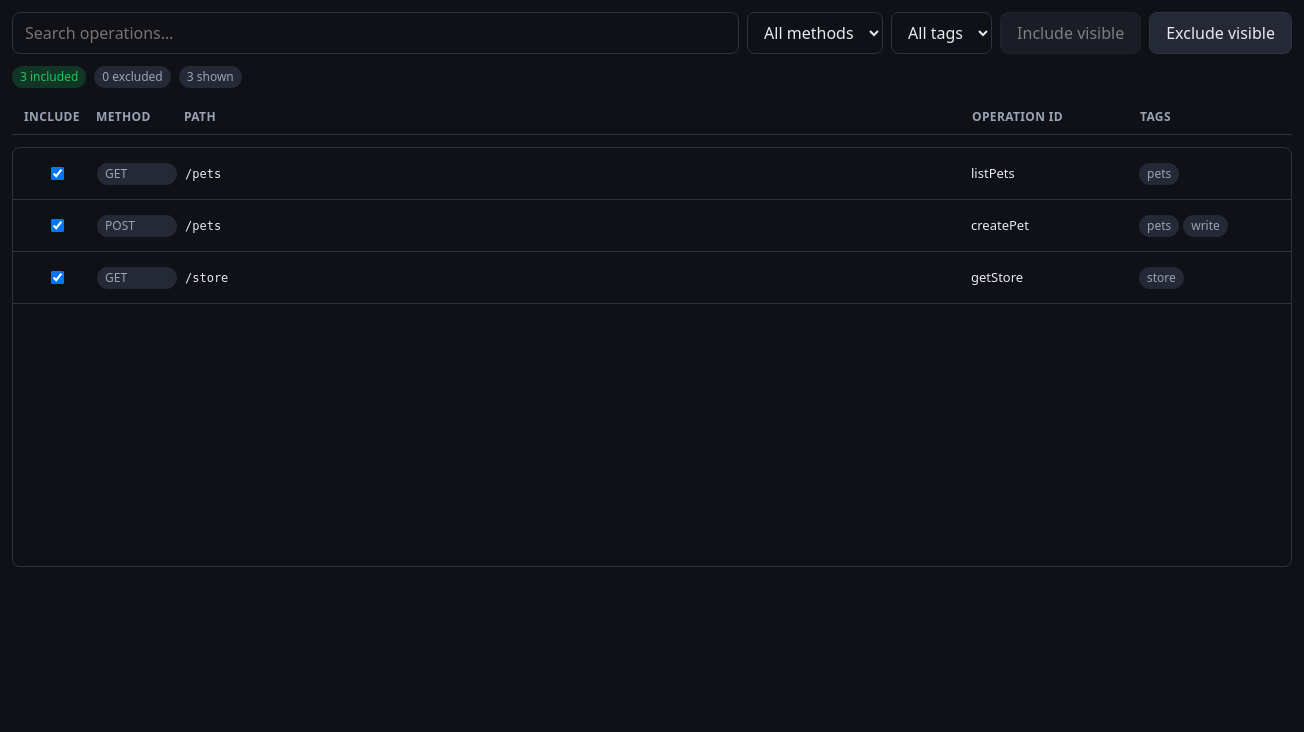
Test: OperationsTable › shows empty state when filters match nothing
This screenshot has width=1304, height=732.
Type "zzznomatch" into the field labelled "Search operations…" at (376, 33), box [12,12,739,54]
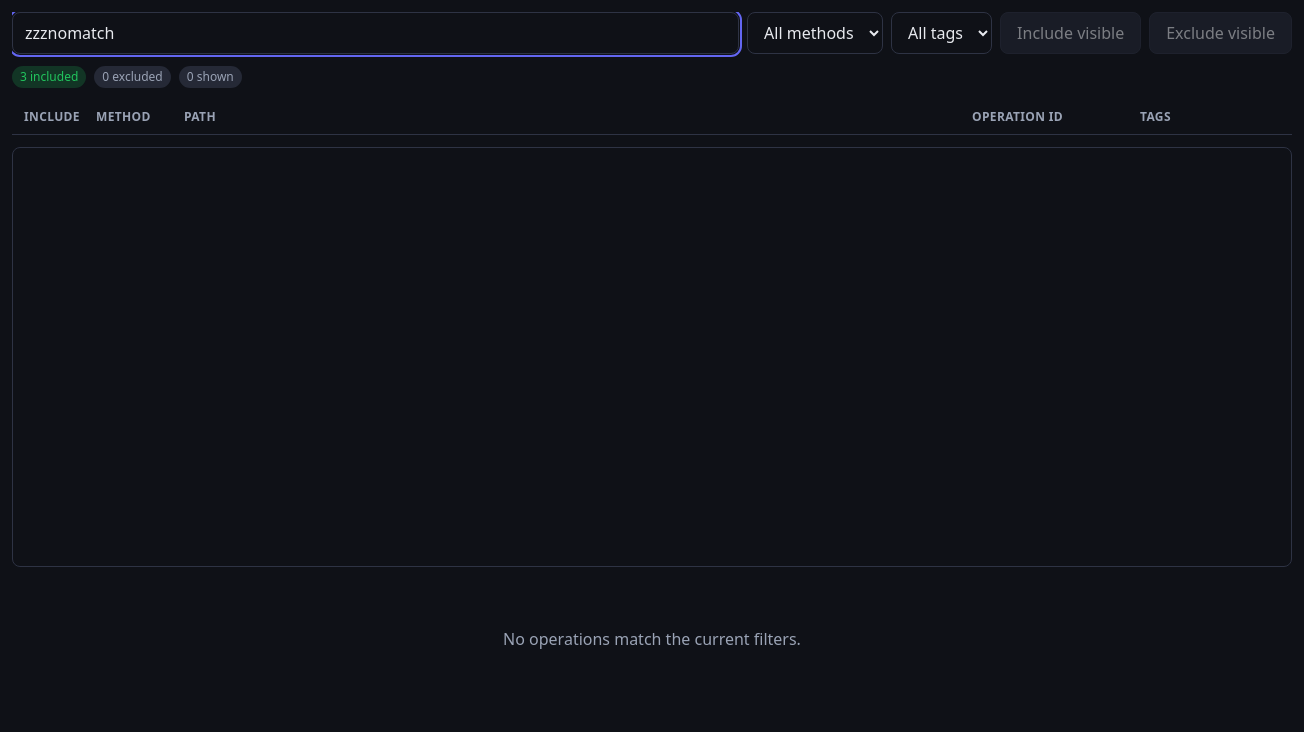
Result: the text "No operations match the current filters." is shown at [503,628,801,650]
